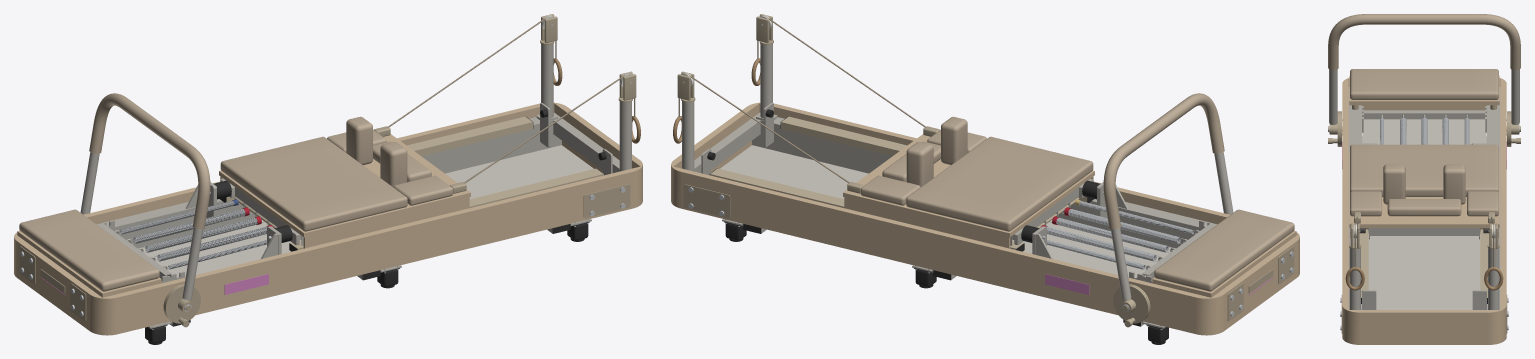
The model's file is r3-chiaro.glb.
The picture shows the model from 3 angles, left to right: view 1: azimuth 30°, elevation 25°; view 2: azimuth 150°, elevation 25°; view 3: azimuth 270°, elevation 25°; orthographic projection. The views are drawn at different scales.
Visible parts, largest first — view 1: L01_Fianco_anello_DX, U01_Imbottitura_carrello, L04_Fondo_chiusura, U06_Piattaforma_imbottitura, T01_Longherone_SX, U05_Imbottitura_footbar, L01_Fianco_anello_SX, C07_Pianale_carrello, L02_Testata_anello_piedi, C08_Gonna_carrello_DX, B01_Binario_SX, T09_Footbar_tubo (+22 smaller); view 2: L01_Fianco_anello_SX, U01_Imbottitura_carrello, L04_Fondo_chiusura, U06_Piattaforma_imbottitura, T01_Longherone_DX, U05_Imbottitura_footbar, L01_Fianco_anello_DX, C07_Pianale_carrello, L02_Testata_anello_piedi, C08_Gonna_carrello_SX, B01_Binario_DX, T09_Footbar_tubo (+23 smaller); view 3: L04_Fondo_chiusura, U01_Imbottitura_carrello, U06_Piattaforma_imbottitura, L02_Testata_anello_testa, U05_Imbottitura_footbar, C07_Pianale_carrello, L01_Fianco_anello_SX, L01_Fianco_anello_DX, U03_Poggiatesta, T06_Barra_molle, T09_Footbar_tubo, F07_Piattaforma_base (+26 smaller).
Part boxes in pixels (x1,y1,x2,y2): L01_Fianco_anello_DX: (114,169,632,333); U01_Imbottitura_carrello: (220,136,407,231); L04_Fondo_chiusura: (138,145,593,277); U06_Piattaforma_imbottitura: (19,209,159,291); T01_Longherone_SX: (97,112,561,248); U05_Imbottitura_footbar: (89,93,210,229); L01_Fianco_anello_SX: (84,103,539,224); C07_Pianale_carrello: (219,134,470,237); L02_Testata_anello_piedi: (16,239,95,330); C08_Gonna_carrello_DX: (303,197,469,248); B01_Binario_SX: (226,116,532,201); T09_Footbar_tubo: (80,152,203,299); L01_Fianco_anello_SX: (681,169,1199,333); U01_Imbottitura_carrello: (906,136,1093,231); L04_Fondo_chiusura: (720,145,1175,277); U06_Piattaforma_imbottitura: (1154,209,1294,291); T01_Longherone_DX: (752,112,1216,248); U05_Imbottitura_footbar: (1103,93,1224,229); L01_Fianco_anello_DX: (774,103,1229,224); C07_Pianale_carrello: (843,134,1094,237); L02_Testata_anello_piedi: (1218,239,1297,330); C08_Gonna_carrello_SX: (844,197,1010,248); B01_Binario_DX: (781,116,1087,202); T09_Footbar_tubo: (1110,152,1233,299); L04_Fondo_chiusura: (1362,111,1486,309); U01_Imbottitura_carrello: (1350,144,1498,196); U06_Piattaforma_imbottitura: (1350,69,1498,99); L02_Testata_anello_testa: (1360,310,1488,344); U05_Imbottitura_footbar: (1328,14,1520,70); C07_Pianale_carrello: (1349,152,1499,227); L01_Fianco_anello_SX: (1500,83,1506,304); L01_Fianco_anello_DX: (1342,83,1348,304); U03_Poggiatesta: (1387,199,1461,216); T06_Barra_molle: (1362,110,1486,119); T09_Footbar_tubo: (1329,69,1519,124); F07_Piattaforma_base: (1349,75,1499,105).
Size of the model in its own units: 2.52 by 0.7949 by 0.864.
